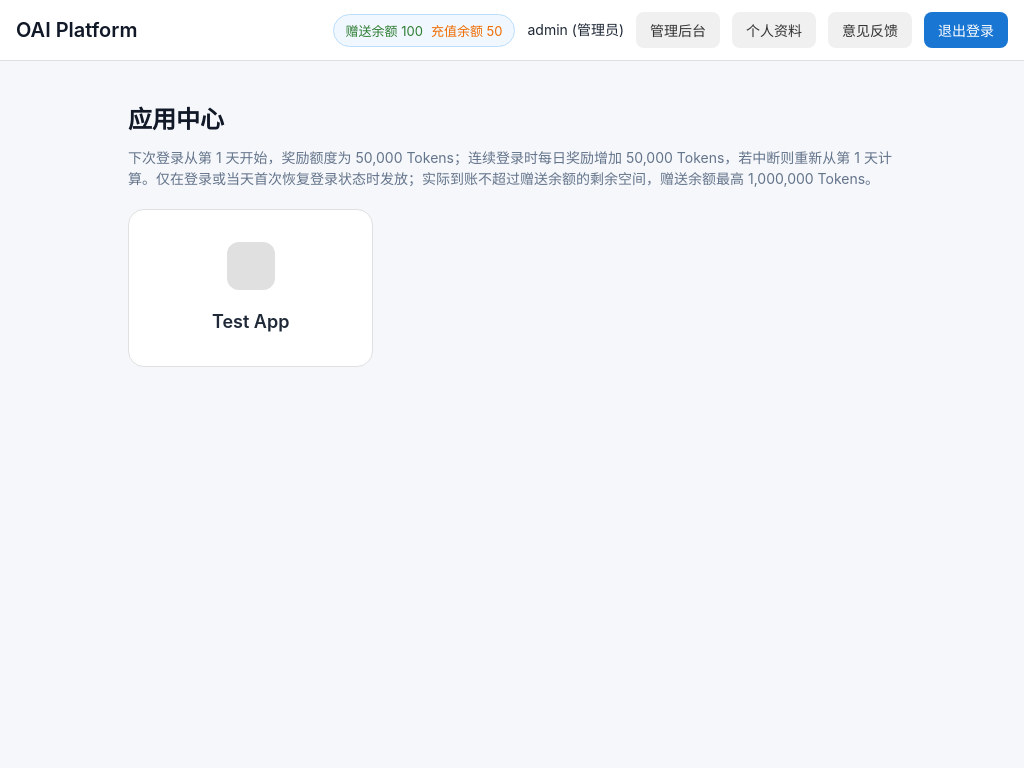
Test case: AdminAppsTab › has "新增应用" button and submits a Chatflow body
expect the heading "应用中心" is shown: met, box [128, 105, 224, 134]
Click the button "管理后台" at (678, 30), box [636, 12, 720, 48]
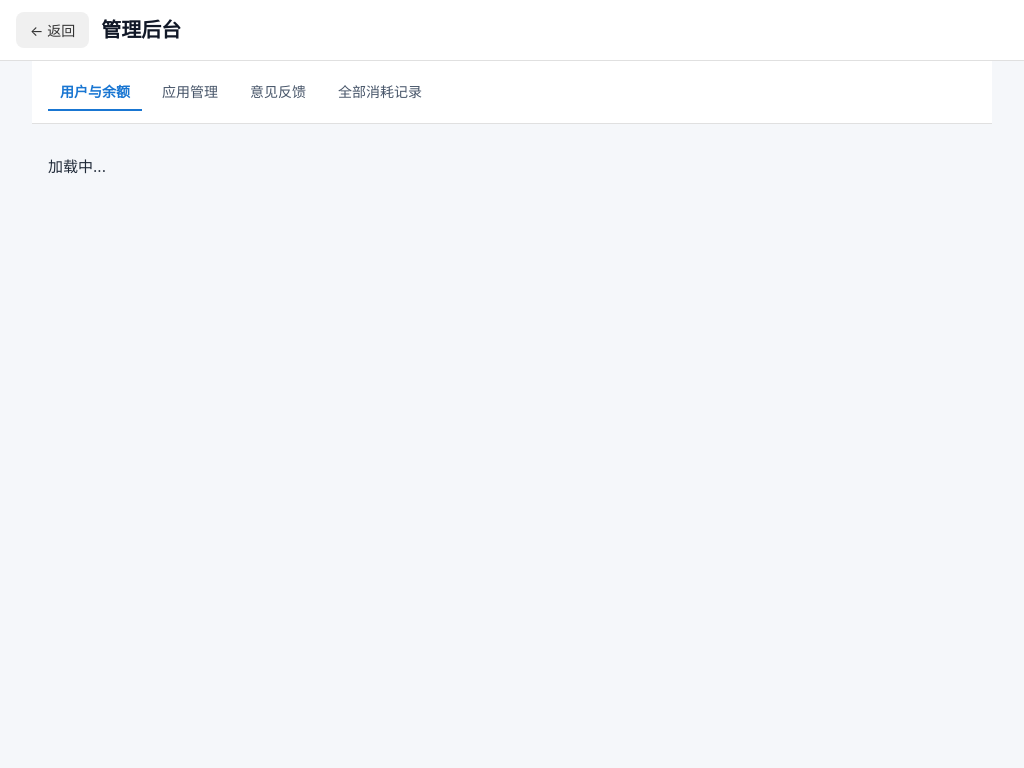
expect the button "应用管理" is shown: met
Click the button "应用管理" at (190, 92), box [150, 73, 230, 111]
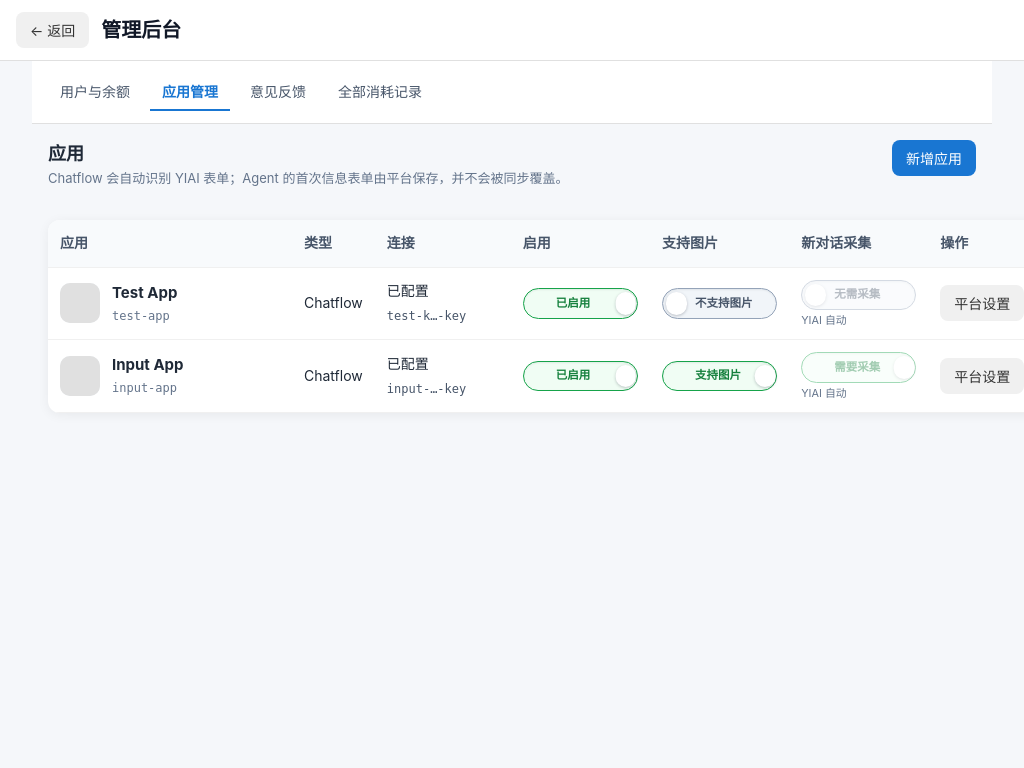
expect the button "新增应用" is shown: met
expect the text "test-k…-key" is shown: met, box [387, 309, 466, 323]
Click the button "新增应用" at (934, 158), box [892, 140, 976, 176]
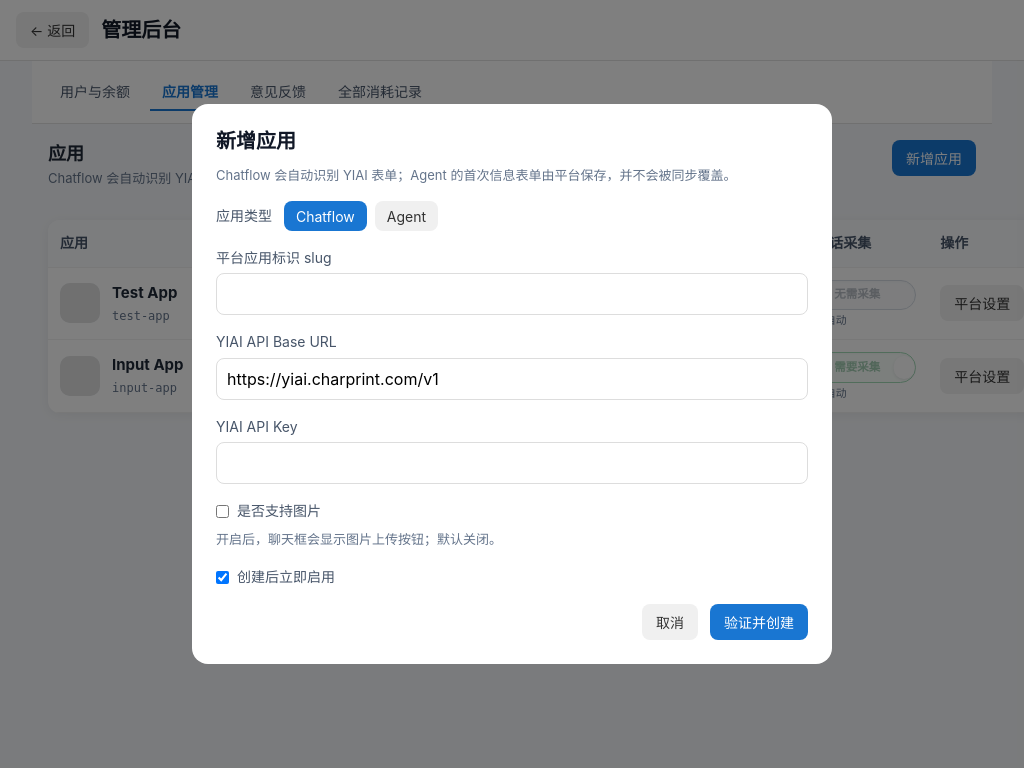
expect the heading "新增应用" is shown: met, box [216, 129, 296, 153]
Type "new-app" into the field labelled "平台应用标识 slug" at (512, 294), box [216, 273, 808, 315]
Replace the text in the field labelled "YIAI API Base URL" with "https://yiai.example.com/v1" at (512, 379), box [216, 358, 808, 400]
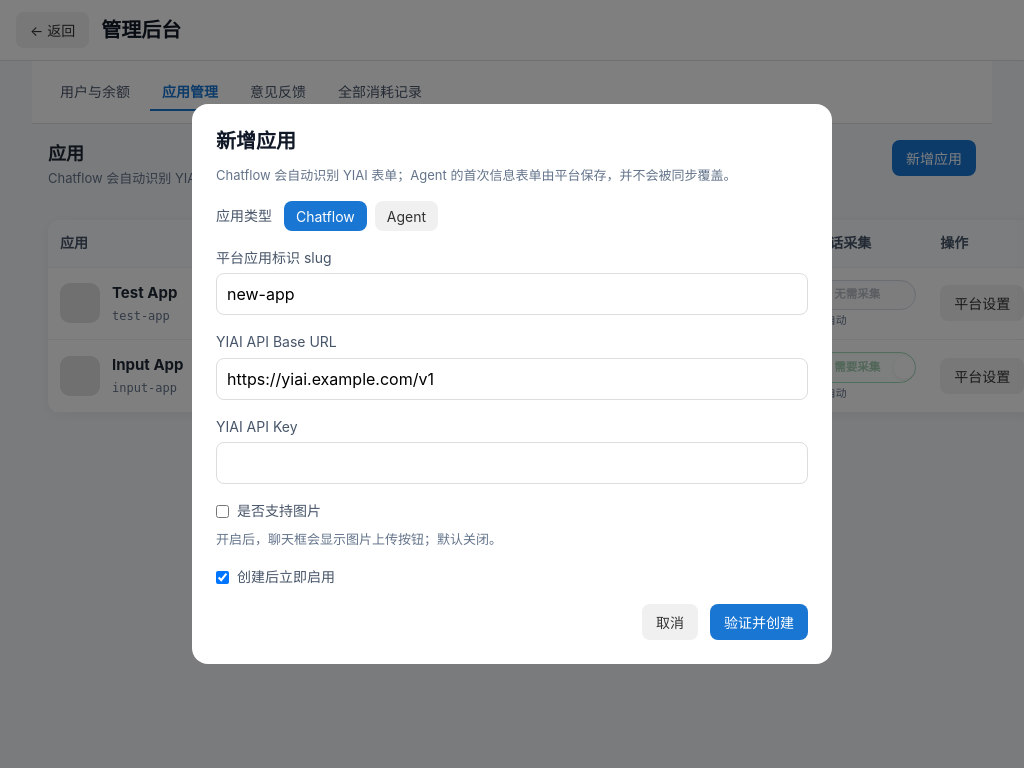
Type "secret-api-key" into the password field labelled "YIAI API Key" at (512, 463), box [216, 442, 808, 484]
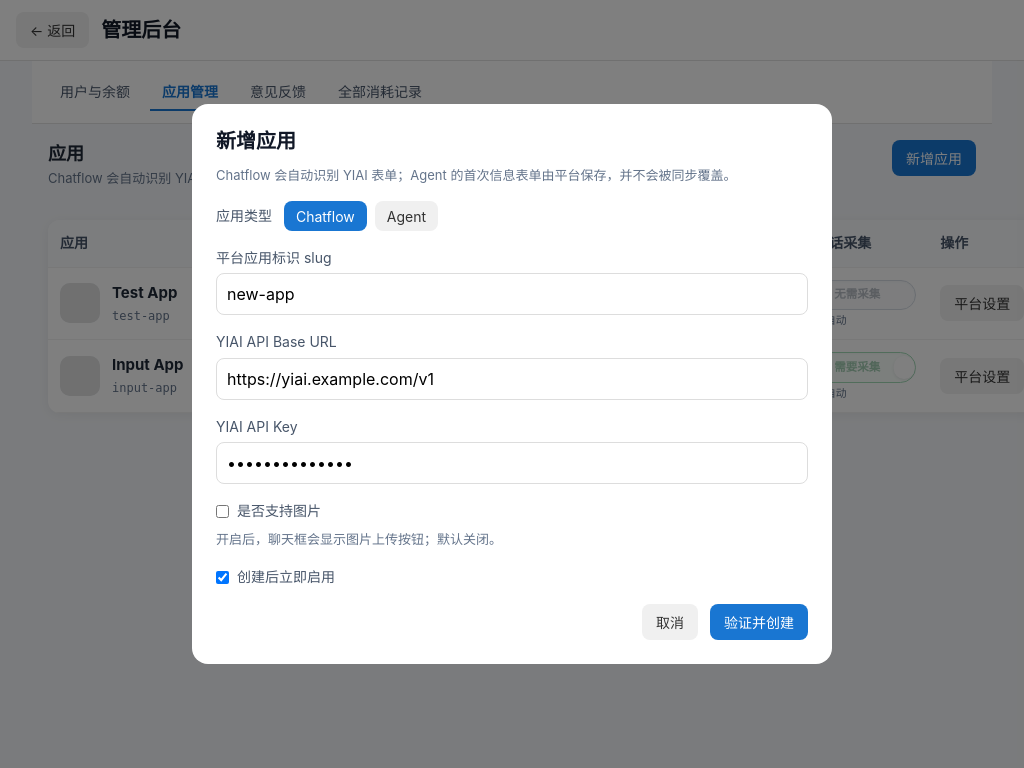
Click the button "验证并创建" at (759, 622), box [710, 604, 808, 640]
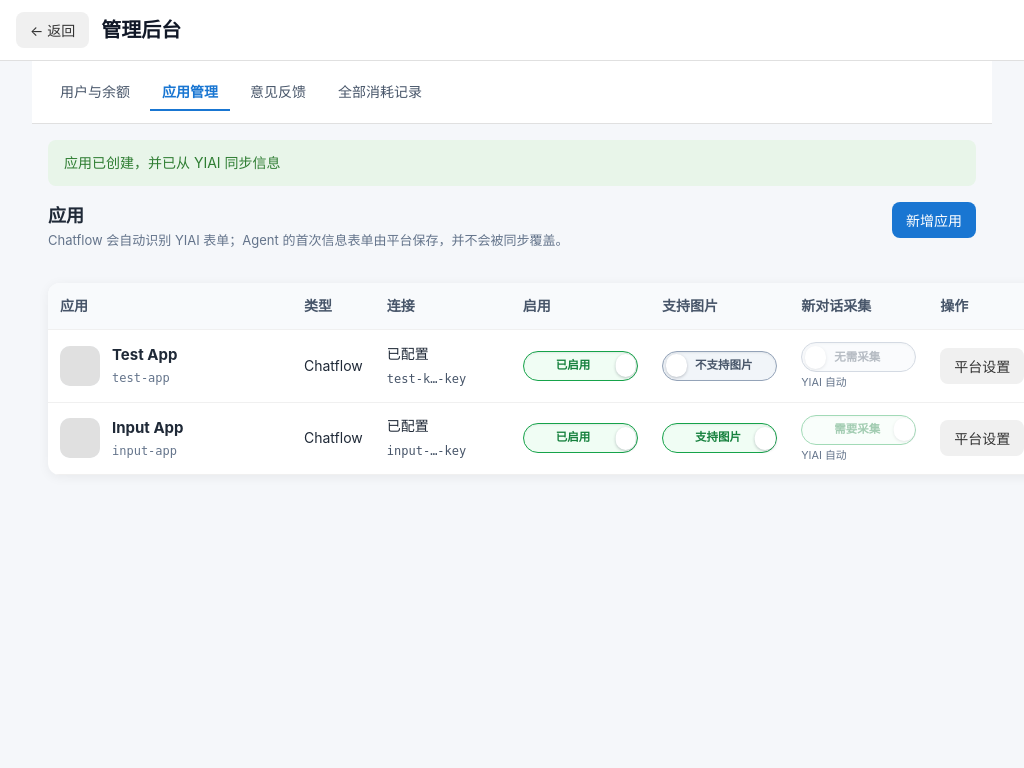
expect the text "应用已创建，并已从 YIAI 同步信息" is shown: met, box [48, 140, 976, 186]
